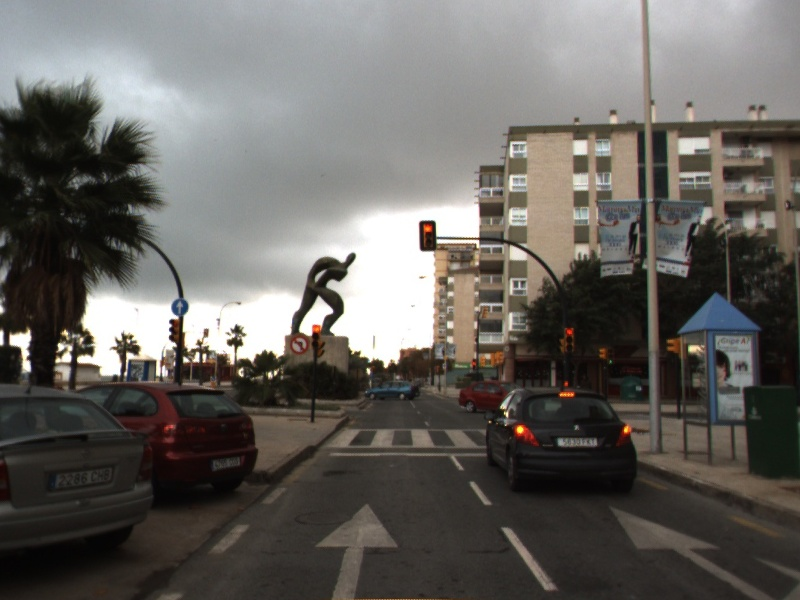STRAIGHT: (607, 504, 780, 600), (313, 502, 401, 600)
